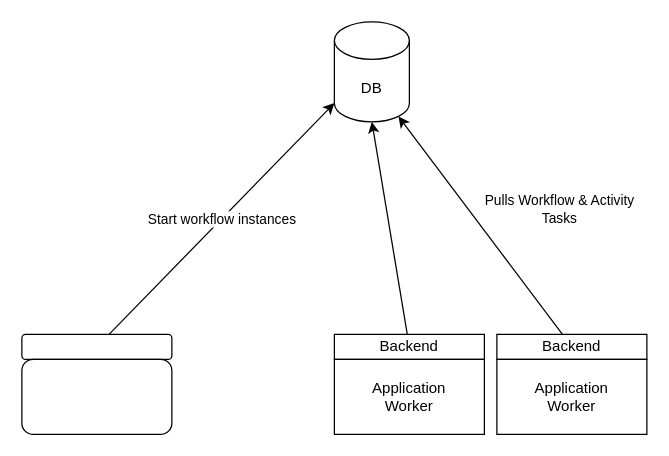
This 669x456 diagram has some shape labels left out. The centre of each missing label's shape, as x and y in pixels:
"Application" belongs at (x=96, y=396).
"Client" belongs at (x=96, y=346).
